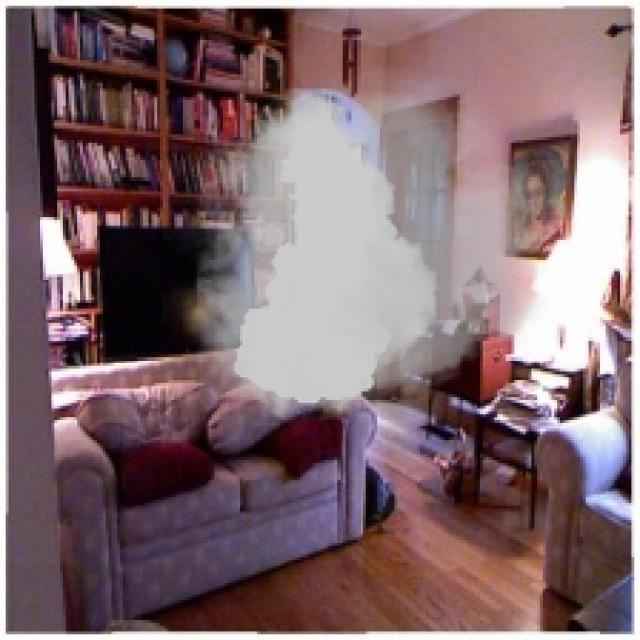smoke: (163, 66, 588, 428)
